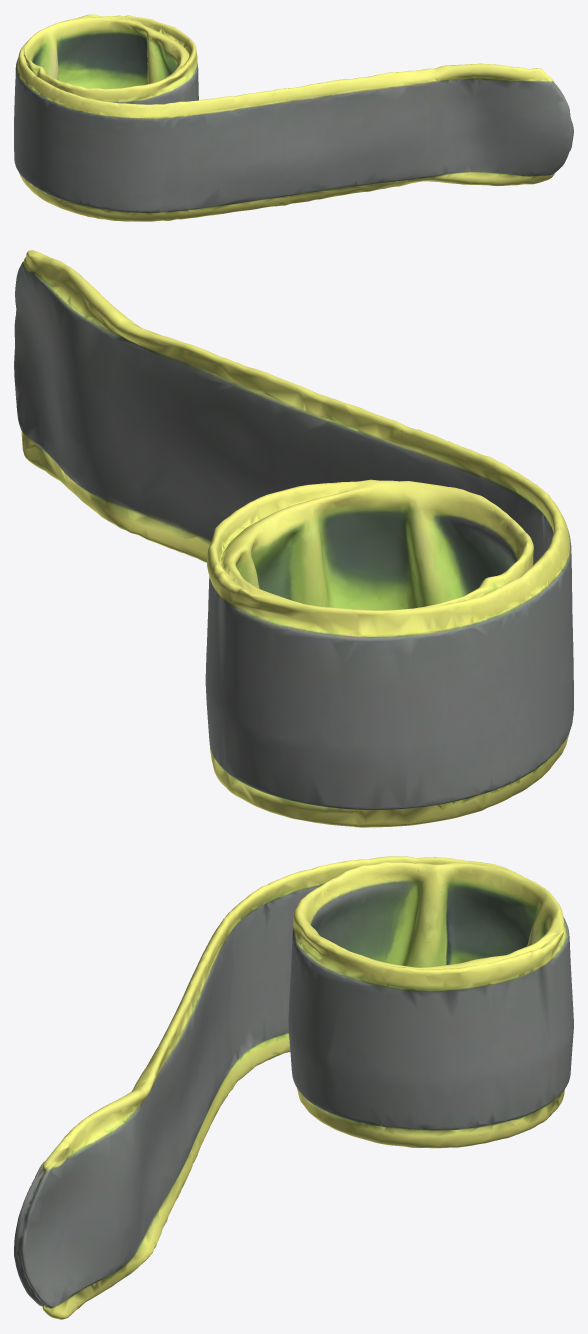
3 renders of one model, top to bottom at view 1: azimuth 30°, elevation 25°; view 2: azimuth 150°, elevation 25°; view 3: azimuth 270°, elevation 25°, orthographic. The views are drawn at different scales.
Visible parts, largest first — view 1: tripo_node_47848038-8243-4fa9-af1a-a38c664089b5; view 2: tripo_node_47848038-8243-4fa9-af1a-a38c664089b5; view 3: tripo_node_47848038-8243-4fa9-af1a-a38c664089b5.
Boxes of the visible parts, x1,y1,x2,y2 form: tripo_node_47848038-8243-4fa9-af1a-a38c664089b5: [14, 14, 573, 221]; tripo_node_47848038-8243-4fa9-af1a-a38c664089b5: [14, 250, 573, 827]; tripo_node_47848038-8243-4fa9-af1a-a38c664089b5: [14, 856, 573, 1319].
Bounding box in the file's own units: 0.9999 × 0.2772 × 0.7687.
Materials: 1 (1 with a texture image).
